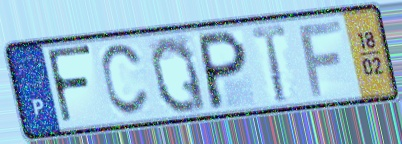C: (98, 40, 152, 119)
F: (43, 43, 95, 128), (296, 18, 345, 100)
P: (197, 27, 249, 112)
Q: (147, 34, 210, 116)
T: (248, 21, 289, 106)
